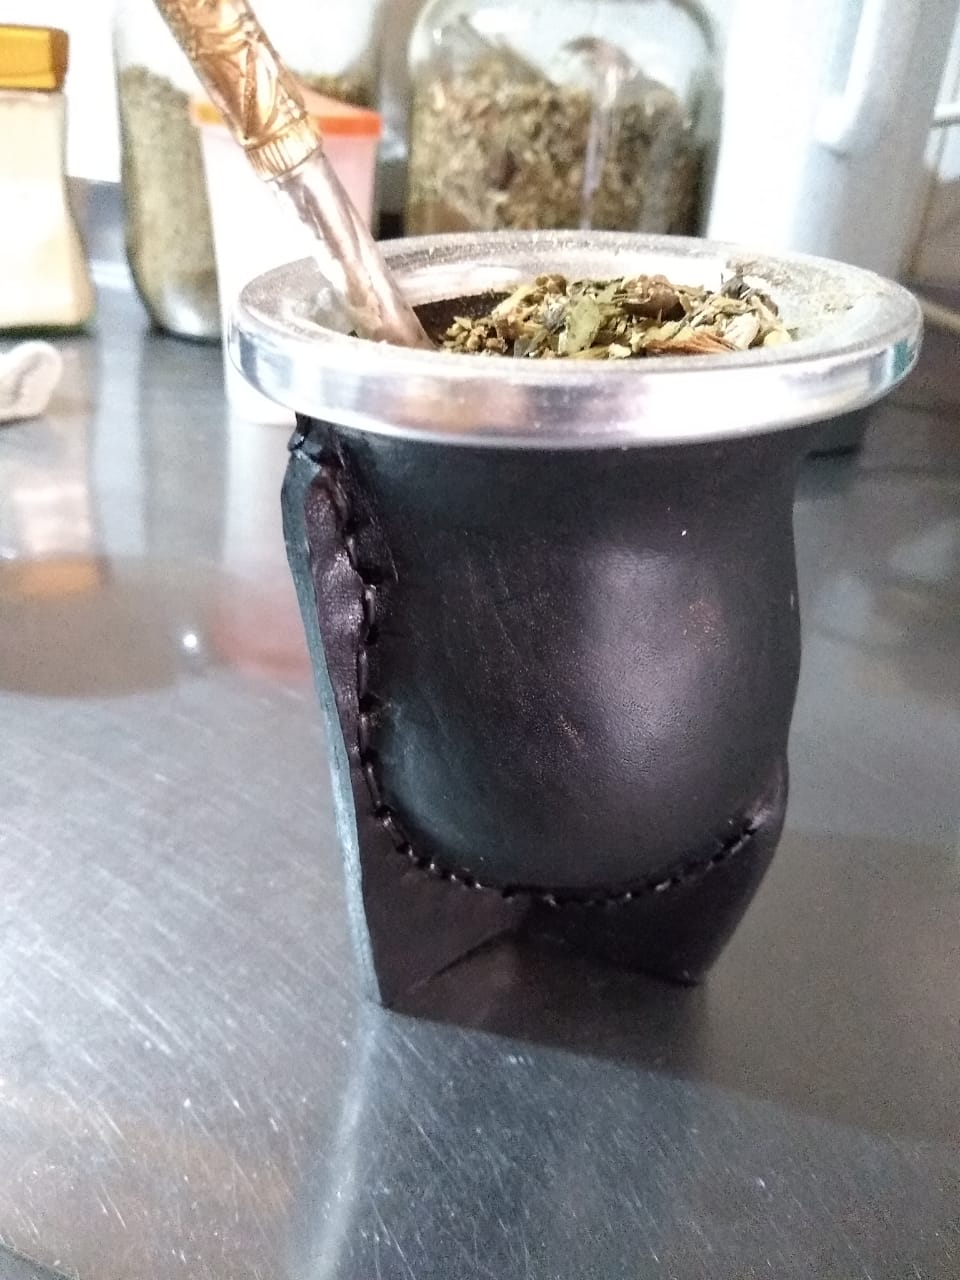madera: (218, 211, 923, 1022)
mate: (220, 213, 925, 1024)
